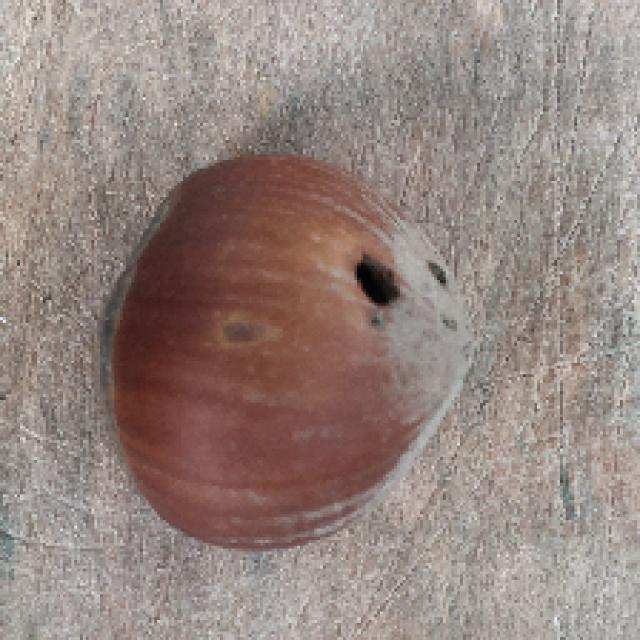damagedHazelnut: (95, 147, 488, 554)
